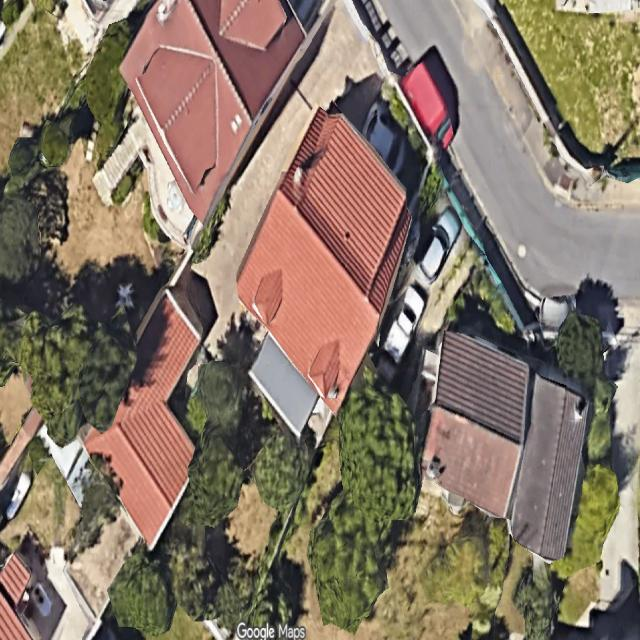maison: (182, 102, 456, 447), (58, 0, 319, 248), (54, 287, 262, 549), (403, 329, 602, 563)
